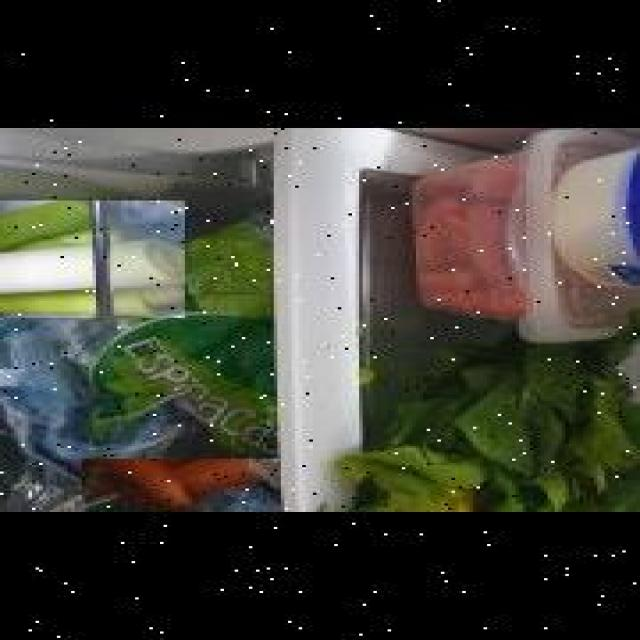carrot: (79, 459, 278, 512)
leek: (0, 200, 196, 318)
pak_choi: (323, 345, 640, 512)
